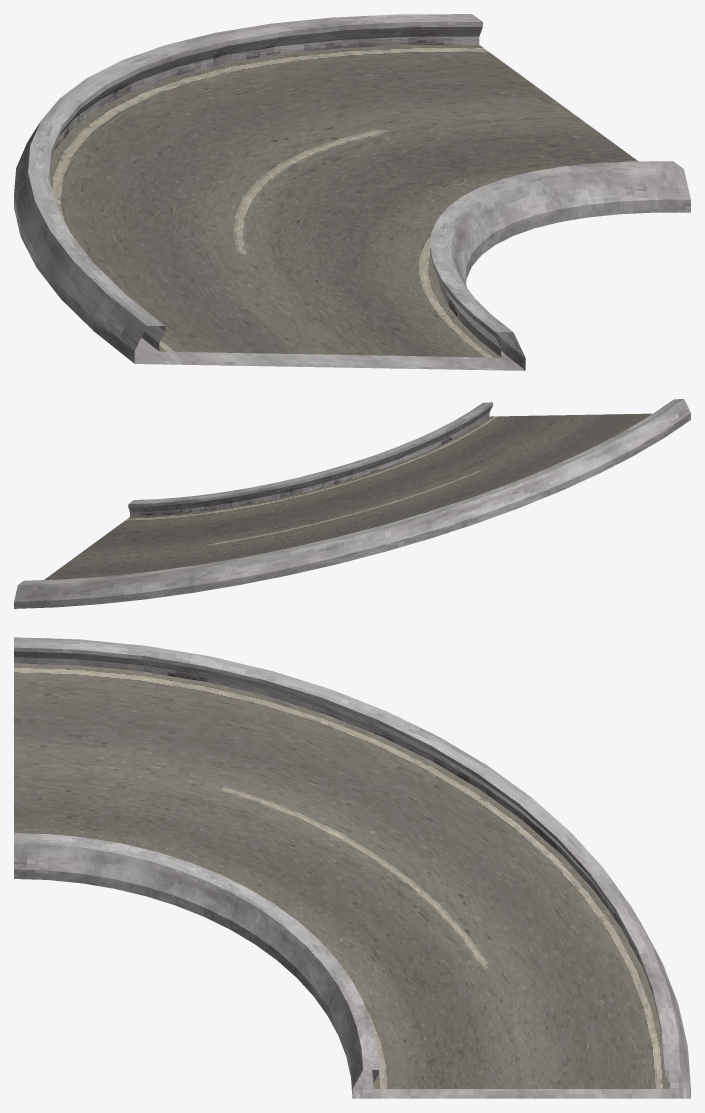
File: turn-right2x2.glb
The picture shows the model from 3 angles, top to bottom: view 1: azimuth 30°, elevation 25°; view 2: azimuth 150°, elevation 25°; view 3: azimuth 270°, elevation 25°; orthographic projection. The views are drawn at different scales.
Parts seen in each view (by area): view 1: road-Turn-HalfBankedRight-BiSlopeDown-Down1-Right-Size2; view 2: road-Turn-HalfBankedRight-BiSlopeDown-Down1-Right-Size2; view 3: road-Turn-HalfBankedRight-BiSlopeDown-Down1-Right-Size2.
Part boxes in pixels (bbox=[...]): road-Turn-HalfBankedRight-BiSlopeDown-Down1-Right-Size2: bbox=[14, 14, 690, 370]; road-Turn-HalfBankedRight-BiSlopeDown-Down1-Right-Size2: bbox=[14, 399, 690, 608]; road-Turn-HalfBankedRight-BiSlopeDown-Down1-Right-Size2: bbox=[14, 637, 690, 1098].
Bounding box in the file's own units: 2 × 0.5859 × 2.
2 materials, 2 textured.
